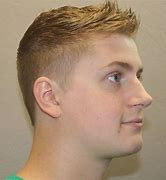person: (16, 4, 153, 172)
